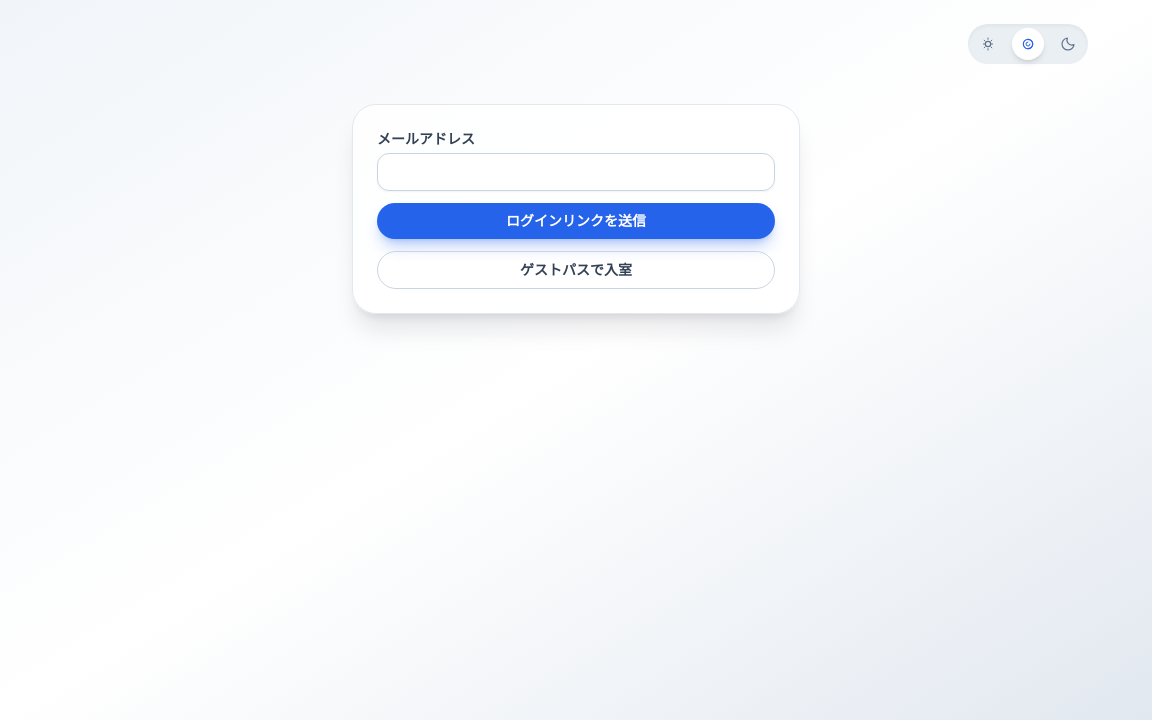
Dashboard login flow › ログインリンク送信に失敗するとエラーメッセージを表示する
In the field labelled "メールアドレス": (576, 172) [377,153,775,191], type "user@example.com"
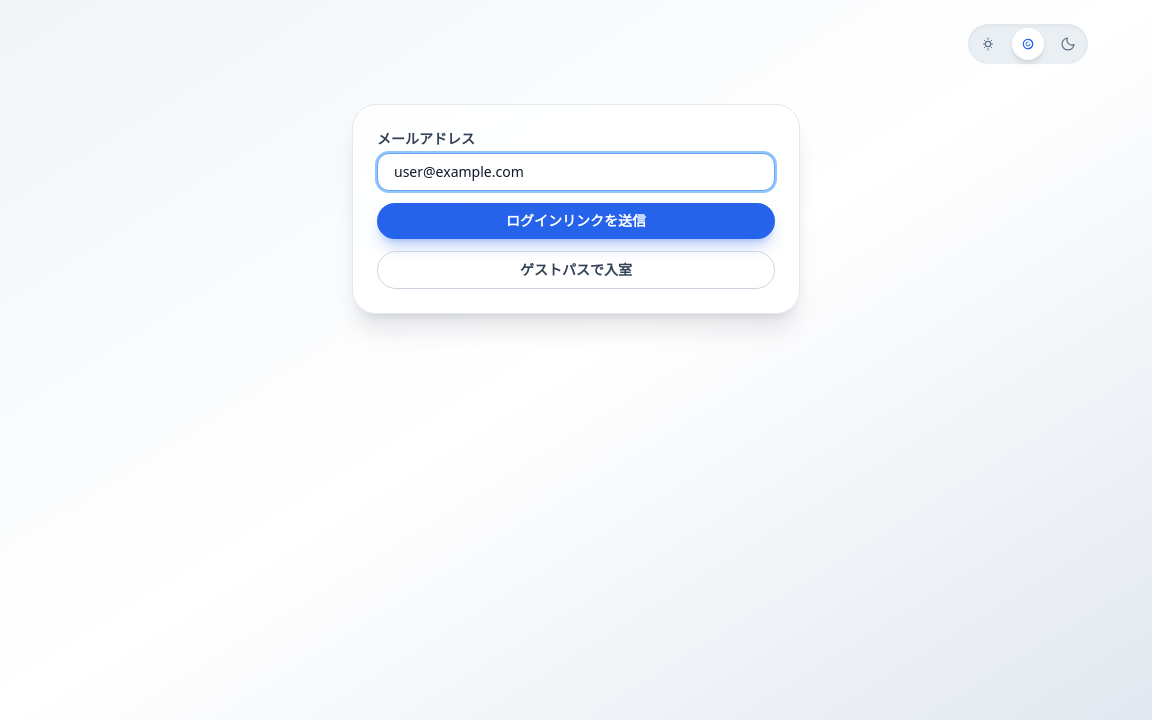
Click the button "ログインリンクを送信": (576, 221) [377,203,775,239]
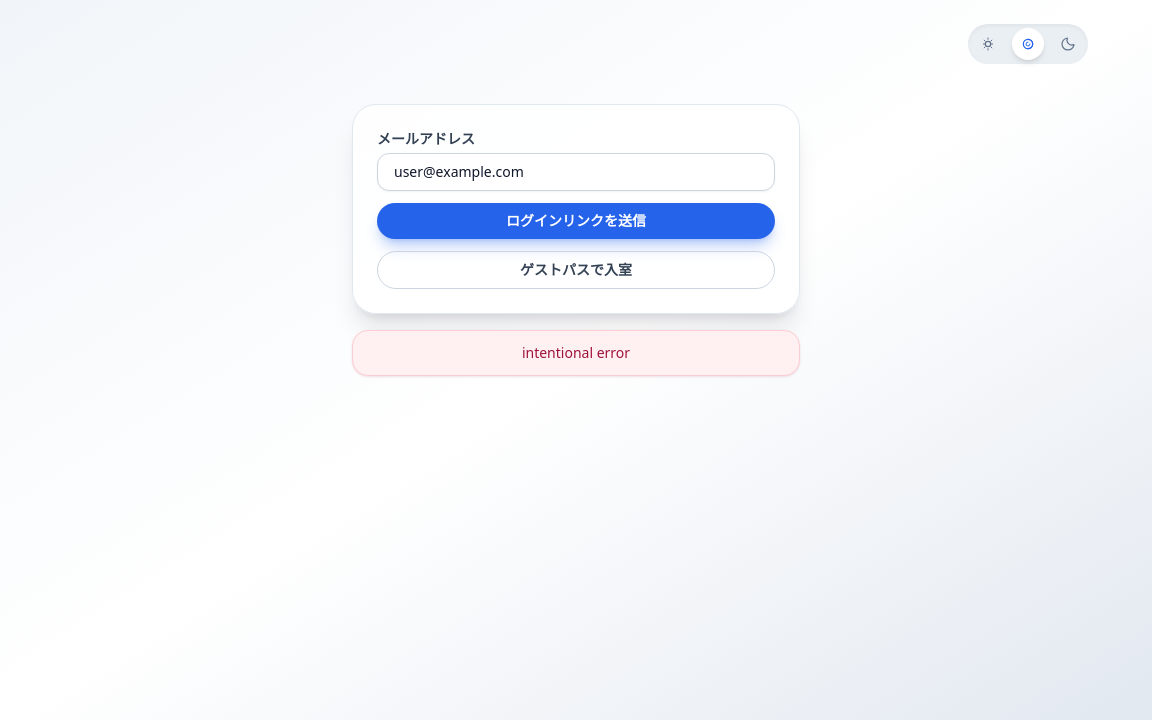
Expected: the message reads "intentional error", [522,343,630,362]
